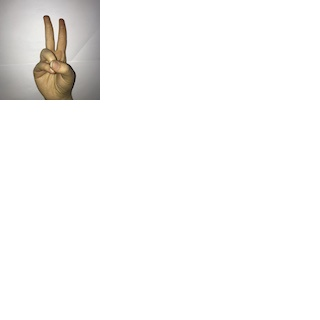scissors: (29, 12, 77, 96)
